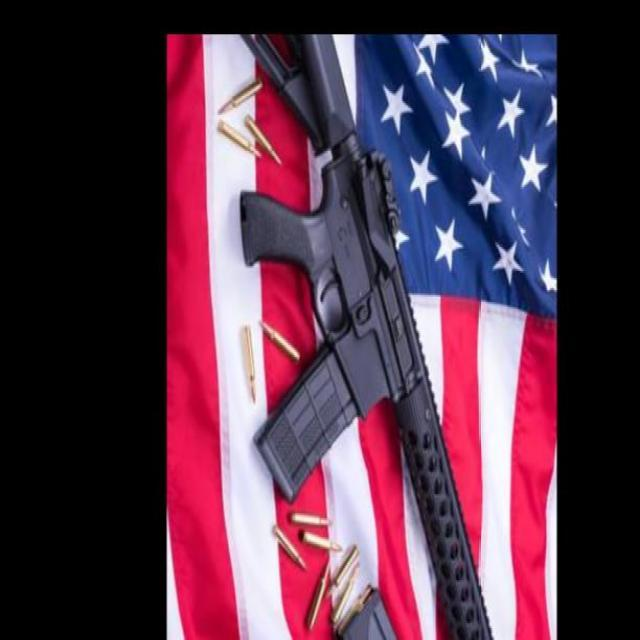weapon: (241, 34, 493, 640)
